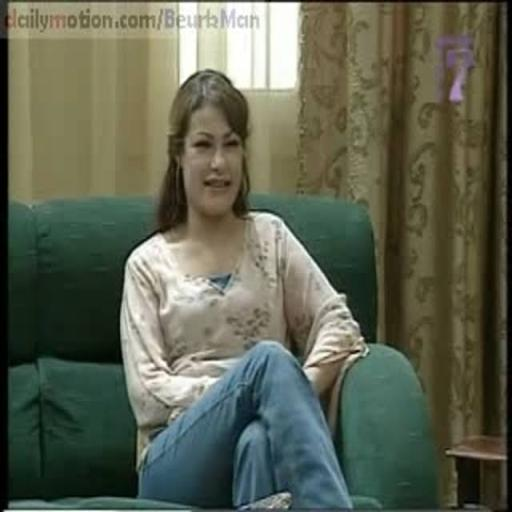zeineb: (169, 80, 249, 218)
